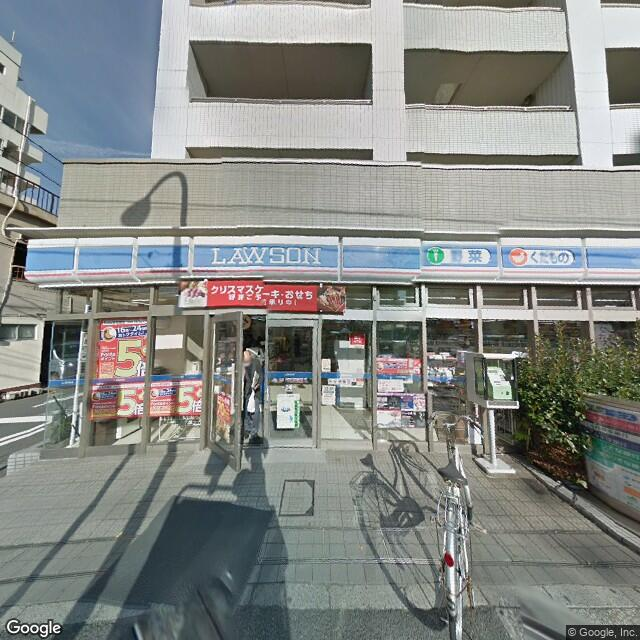lawson: (14, 224, 640, 287)
